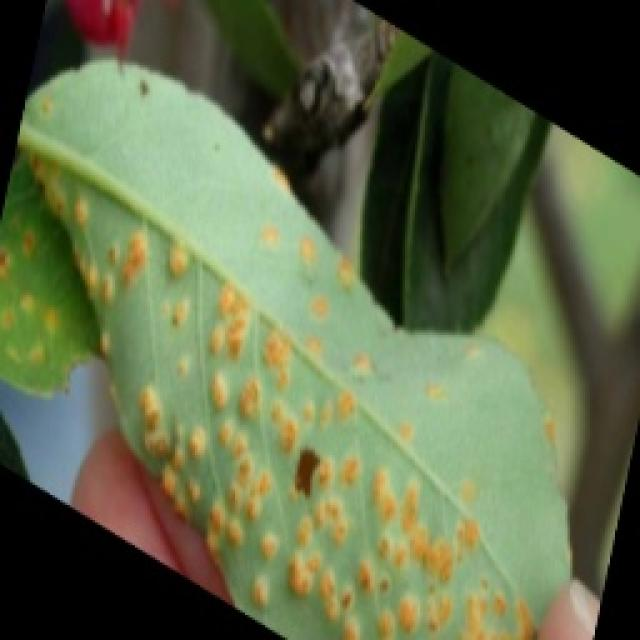Gymnosporangium_Rusts: (0, 52, 578, 638)
